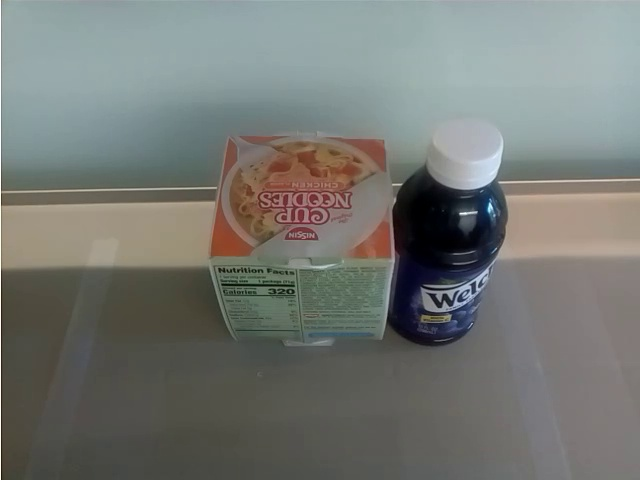juice: (392, 115, 509, 361)
noodles: (201, 134, 394, 347)
